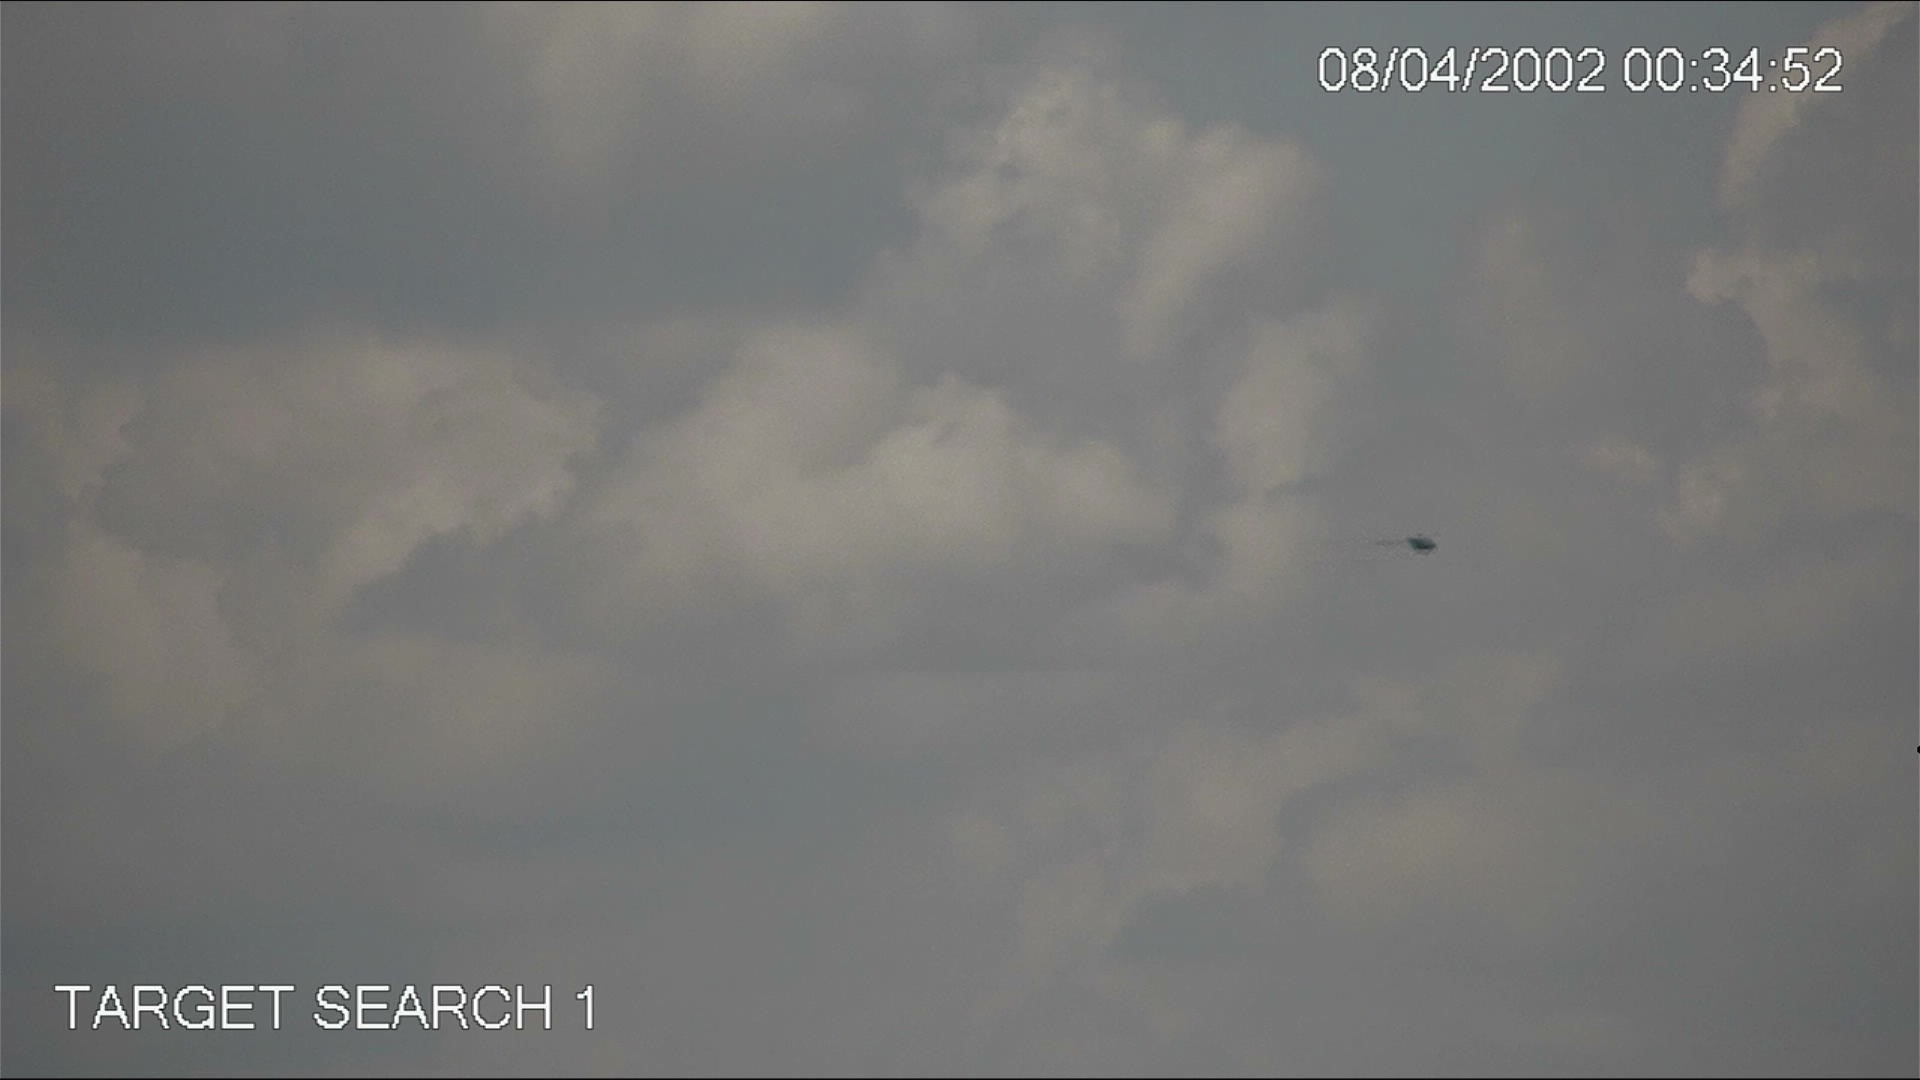SU_30: (1375, 534, 1444, 554)
